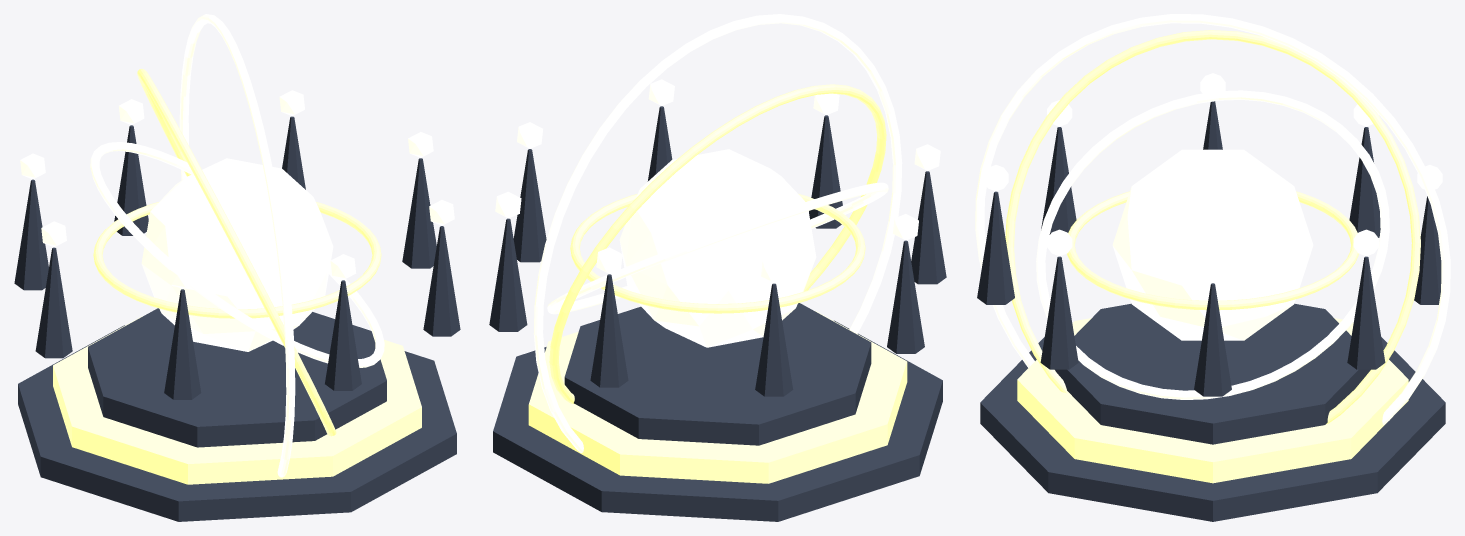
Rendered from gpu-blender-v31.glb.
3 renders of one model, left to right at view 1: azimuth 30°, elevation 25°; view 2: azimuth 150°, elevation 25°; view 3: azimuth 270°, elevation 25°, orthographic. The views are drawn at different scales.
Visible parts, largest first — view 1: Cylinder.002, SovereignCore_agent-capsule-jail, Cylinder, Cylinder.001, Torus.003, Torus.001, Torus.002, Torus, Cone.004, Cone.007, Cone.005, Cone.006 (+12 smaller); view 2: Cylinder.002, SovereignCore_agent-capsule-jail, Cylinder, Cylinder.001, Torus.003, Torus.002, Torus.001, Torus, Cone.002, Cone.003, Cone.001, Cone.004 (+11 smaller); view 3: SovereignCore_agent-capsule-jail, Cylinder.002, Cylinder, Cylinder.001, Torus.003, Torus.002, Torus.001, Torus, Cone, Cone.001, Cone.007, Cone.006 (+8 smaller).
Boxes of the visible parts, x1,y1,x2,y2 form: Cylinder.002: [88, 308, 386, 447]; SovereignCore_agent-capsule-jail: [141, 158, 333, 351]; Cylinder: [18, 325, 456, 521]; Cylinder.001: [53, 316, 421, 484]; Torus.003: [179, 14, 295, 477]; Torus.001: [90, 142, 384, 367]; Torus.002: [137, 69, 336, 436]; Torus: [93, 202, 381, 318]; Cone.004: [35, 247, 72, 358]; Cone.007: [423, 226, 460, 336]; Cone.005: [164, 289, 201, 399]; Cone.006: [325, 280, 361, 390]; Cylinder.002: [564, 303, 871, 445]; SovereignCore_agent-capsule-jail: [619, 149, 816, 347]; Cylinder: [493, 320, 942, 521]; Cylinder.001: [528, 311, 907, 483]; Torus.003: [533, 14, 902, 452]; Torus.002: [549, 84, 886, 403]; Torus.001: [547, 182, 888, 314]; Torus: [570, 193, 865, 313]; Cone.002: [590, 274, 628, 387]; Cone.003: [755, 283, 793, 396]; Cone.001: [489, 218, 527, 331]; Cone.004: [887, 240, 924, 353]; SovereignCore_agent-capsule-jail: [1112, 149, 1313, 340]; Cylinder.002: [1055, 303, 1370, 444]; Cylinder: [980, 337, 1445, 521]; Cylinder.001: [1017, 318, 1408, 483]; Torus.003: [975, 14, 1450, 424]; Torus.002: [1005, 30, 1420, 423]; Torus.001: [1036, 90, 1389, 399]; Torus: [1067, 191, 1358, 310]; Cone: [1194, 283, 1231, 396]; Cone.001: [1347, 256, 1385, 369]; Cone.007: [1040, 256, 1078, 369]; Cone.006: [977, 191, 1014, 304].
Bounding box in the file's own units: 4.41 × 4.7 × 4.49.
